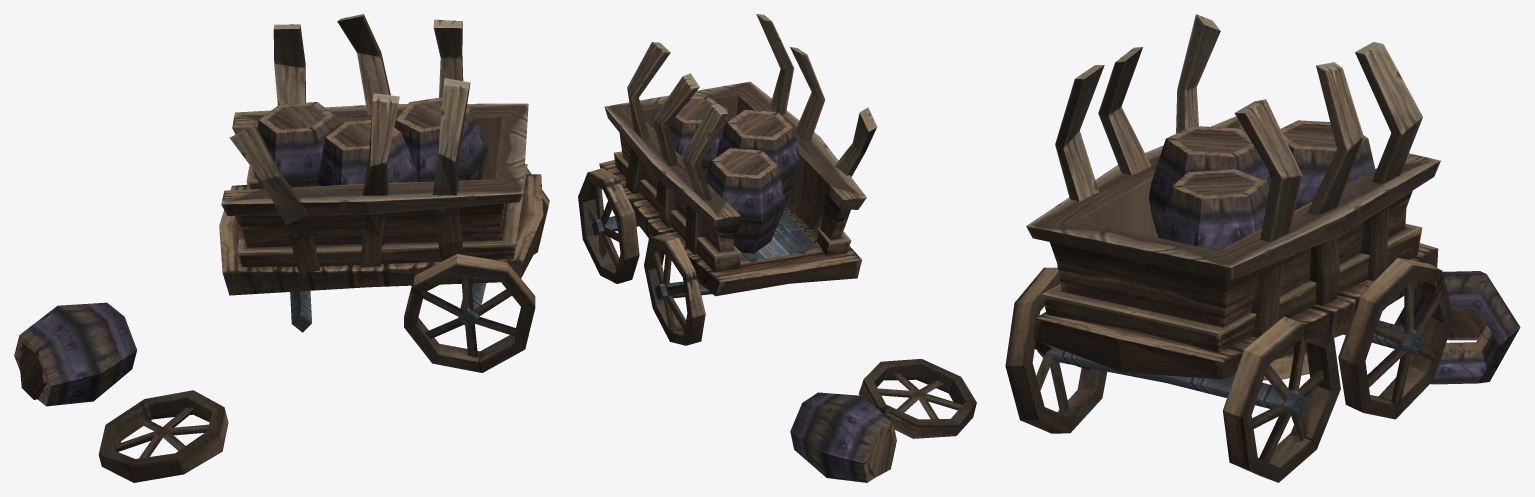
File: building_caravan.fbx
3 renders of one model, left to right at view 1: azimuth 30°, elevation 25°; view 2: azimuth 150°, elevation 25°; view 3: azimuth 270°, elevation 25°, orthographic. The views are drawn at different scales.
Visible parts, largest first — view 1: obj2.005; view 2: obj2.005; view 3: obj2.005.
Part boxes in pixels (x1,y1,x2,y2): obj2.005: (14, 14, 549, 482); obj2.005: (578, 14, 976, 482); obj2.005: (1005, 14, 1520, 482).
Size of the model in its own units: 5.93 by 4.65 by 4.71.
